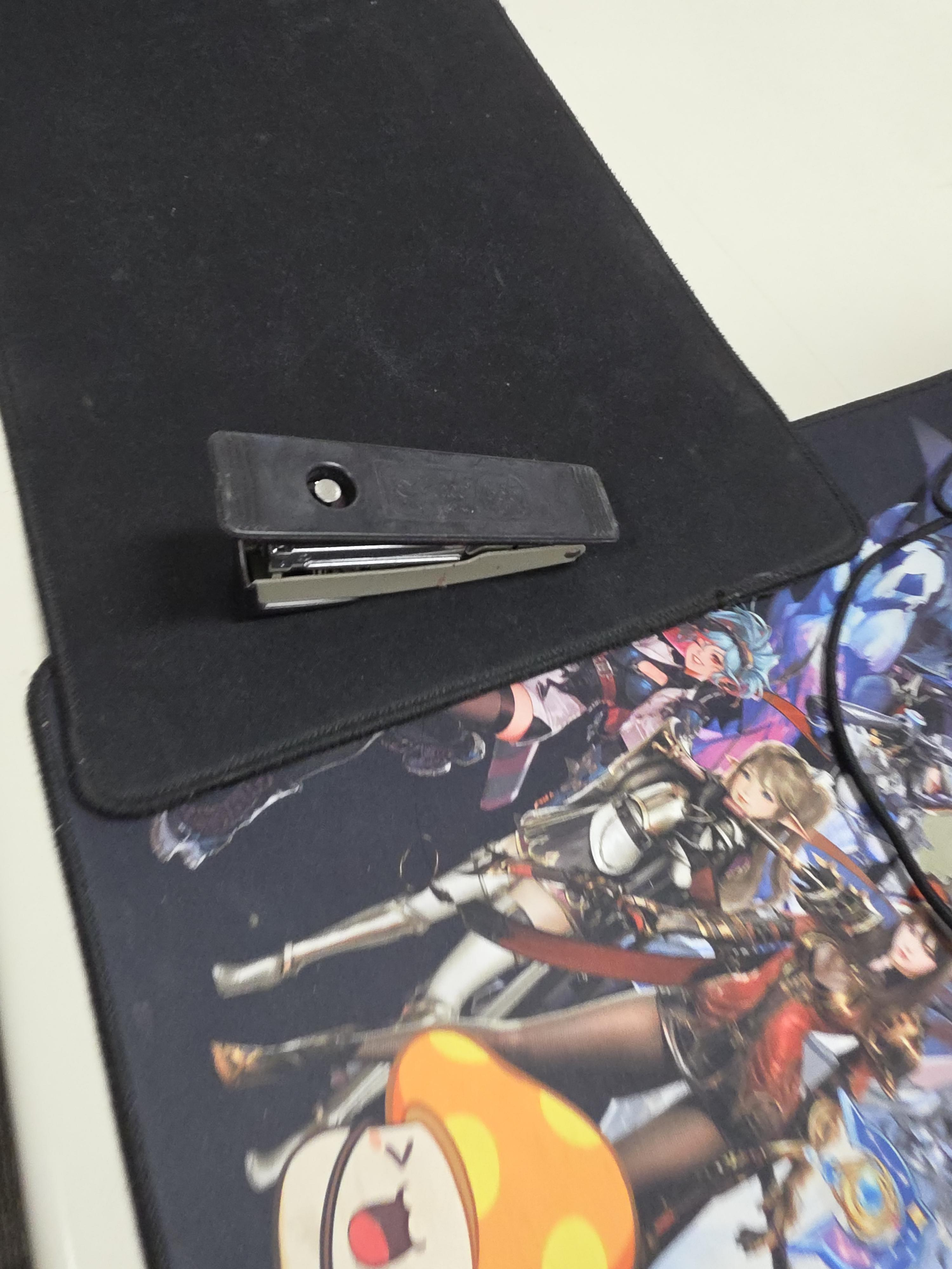stapler: (206, 430, 621, 617)
